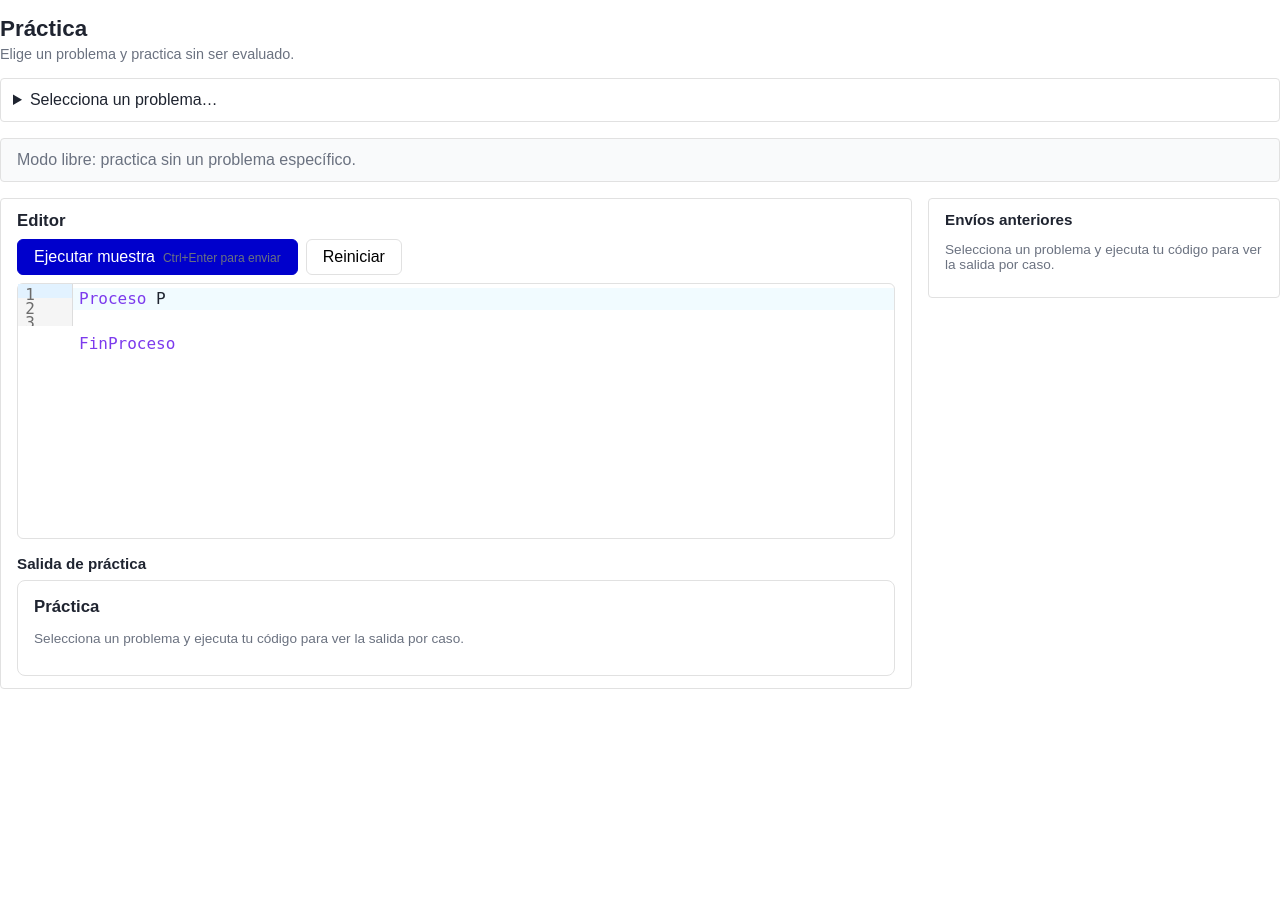
Test: /practice — standalone mode (no problem selected) › clicking Run without a problem selected opens the modal with empty stdin
Step 1. Click the button "Ejecutar muestra" → (157, 257), box [17,239,298,275]
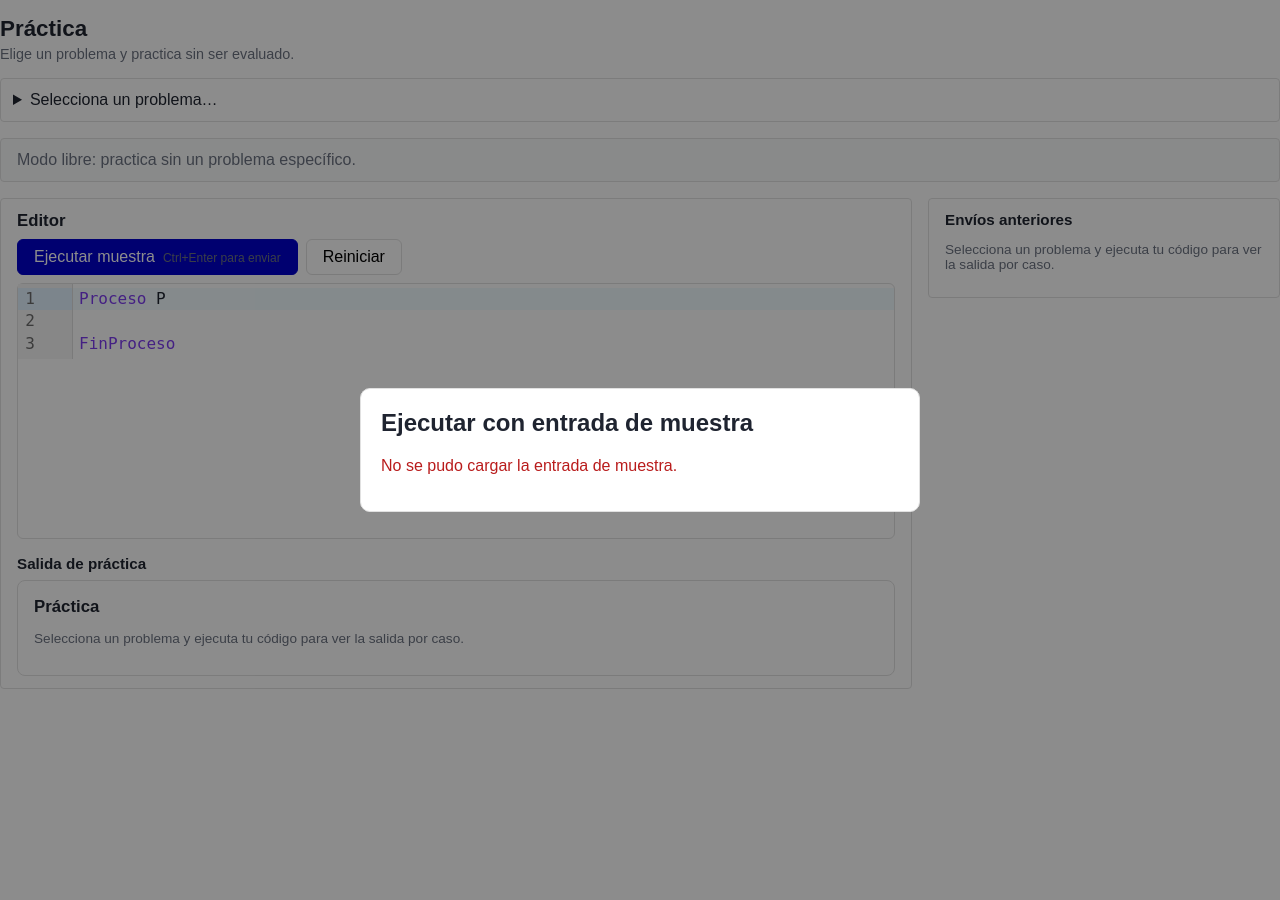
Result: the dialog is shown at [360,388,920,512]
